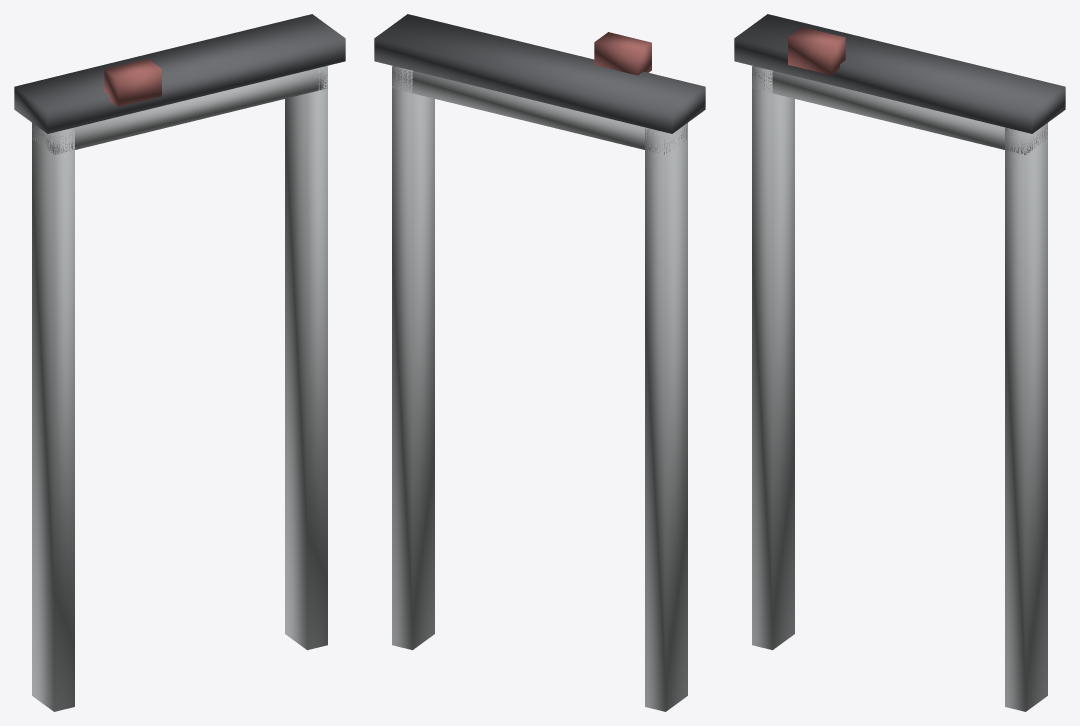
The model's file is doorway_fire_rated_w96_h220_d16.glb.
3 views of the same model, side by side, from view 1: azimuth 30°, elevation 25°; view 2: azimuth 150°, elevation 25°; view 3: azimuth 330°, elevation 25° (orthographic).
Visible parts, largest first — view 1: world; view 2: world; view 3: world.
Part boxes in pixels (bbox=[...]): world: bbox=[14, 14, 345, 711]; world: bbox=[374, 14, 705, 711]; world: bbox=[734, 14, 1065, 711].
Bounding box in the file's own units: 1.23 × 2.49 × 0.3.
